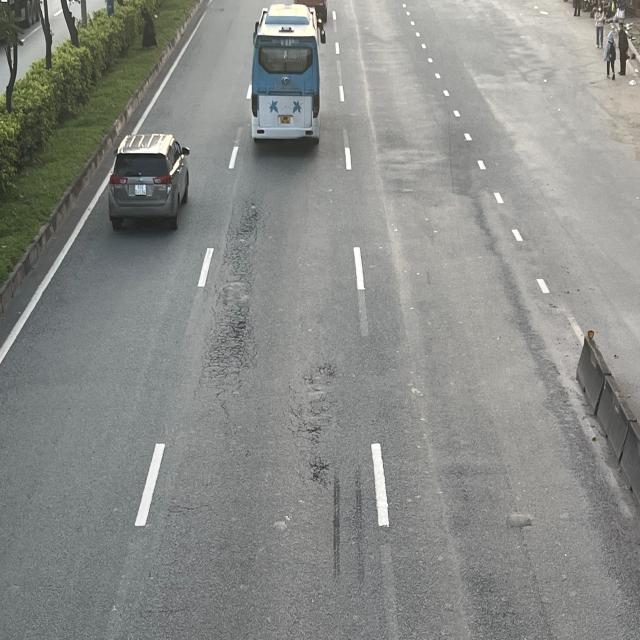car: (110, 133, 193, 230)
coach: (252, 4, 327, 148)
